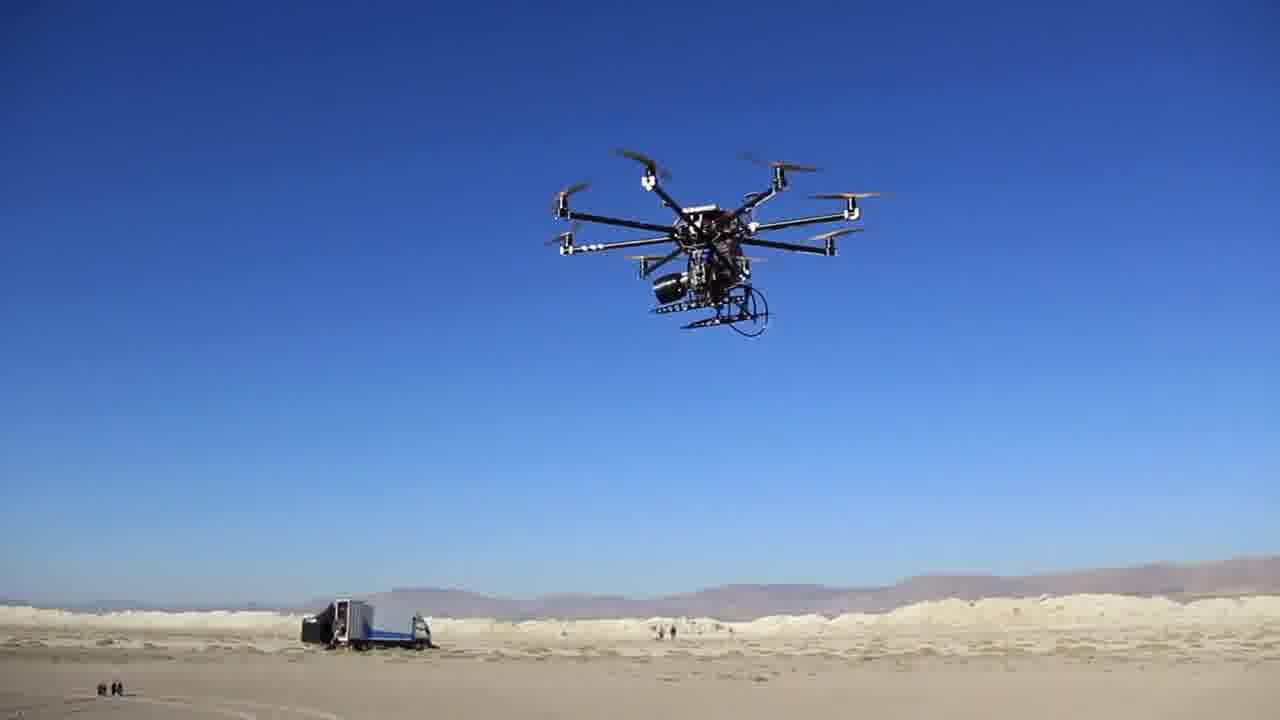drone: (512, 122, 856, 331)
